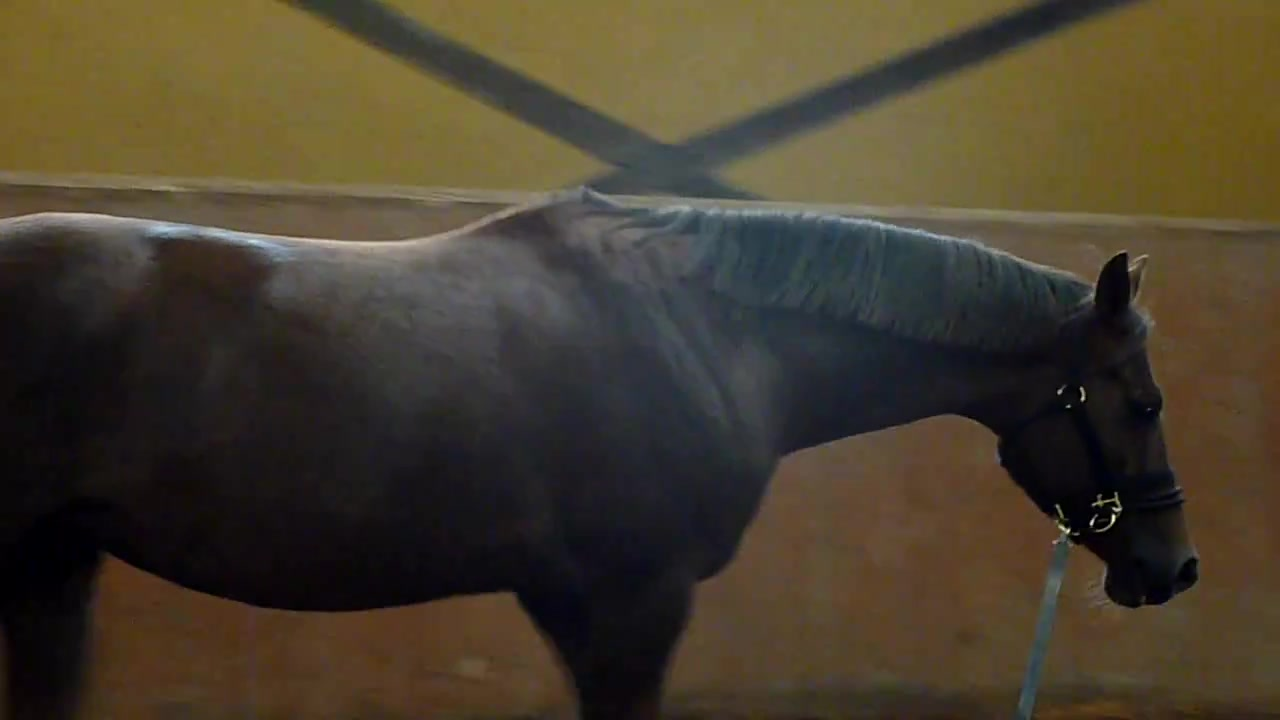horse: (1, 186, 1203, 720)
